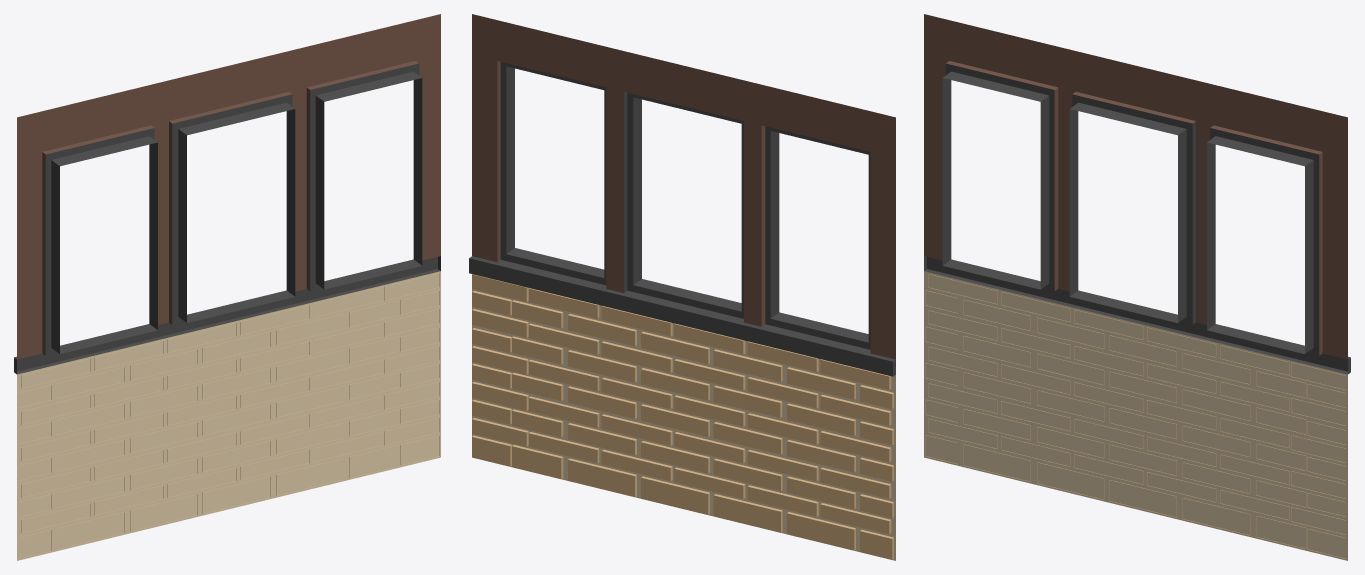
The model's file is AA_BaksteenMuurRaam_LOD0.fbx.
3 views of the same model, side by side, from view 1: azimuth 30°, elevation 25°; view 2: azimuth 150°, elevation 25°; view 3: azimuth 330°, elevation 25° (orthographic).
Parts seen in each view (by area): view 1: AA_BaksteenMuurRaam_LOD0; view 2: AA_BaksteenMuurRaam_LOD0; view 3: AA_BaksteenMuurRaam_LOD0.
Part boxes in pixels (<box>): AA_BaksteenMuurRaam_LOD0: <box>14,14,440,560</box>; AA_BaksteenMuurRaam_LOD0: <box>469,14,895,560</box>; AA_BaksteenMuurRaam_LOD0: <box>924,14,1350,560</box>.
Size of the model in its own units: 4 by 4 by 0.2488.
